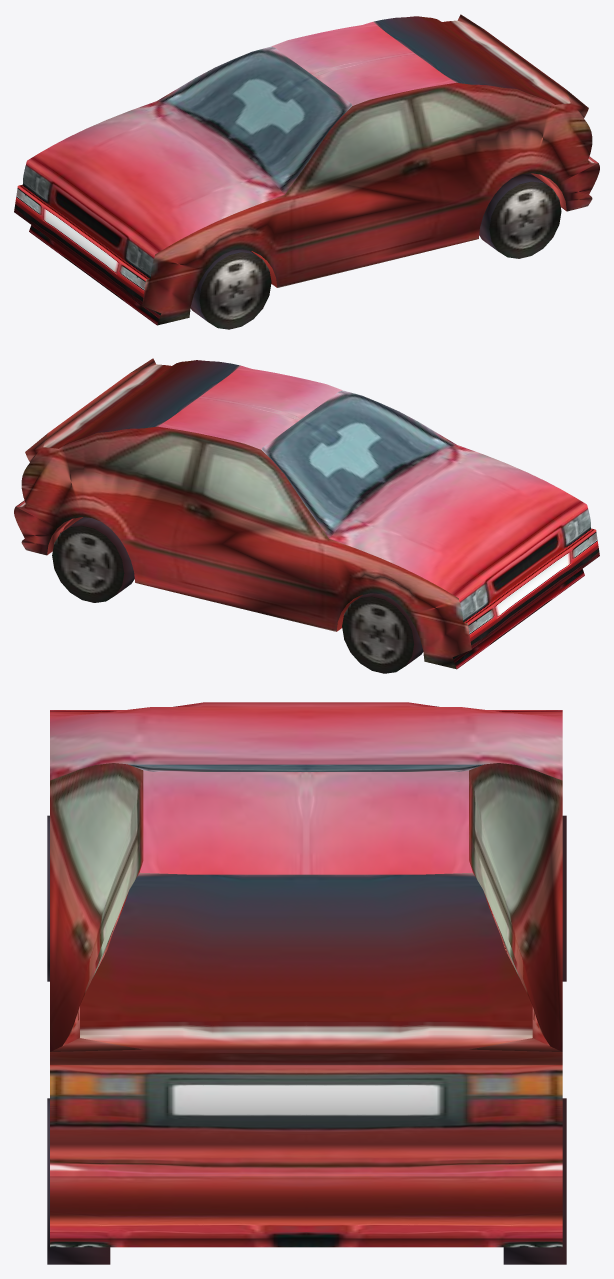
The model's file is car.glb.
The picture shows the model from 3 angles, top to bottom: view 1: azimuth 30°, elevation 25°; view 2: azimuth 150°, elevation 25°; view 3: azimuth 270°, elevation 25°; orthographic projection. The views are drawn at different scales.
Visible parts, largest first — view 1: car; view 2: car; view 3: car.
Boxes of the visible parts, left/top/right/bottom form: car: left=14, top=14, right=599, bottom=329; car: left=14, top=358, right=599, bottom=673; car: left=47, top=702, right=566, bottom=1264.
Bounding box in the file's own units: 4.05 × 1.46 × 1.99.
1 material, 1 textured.
